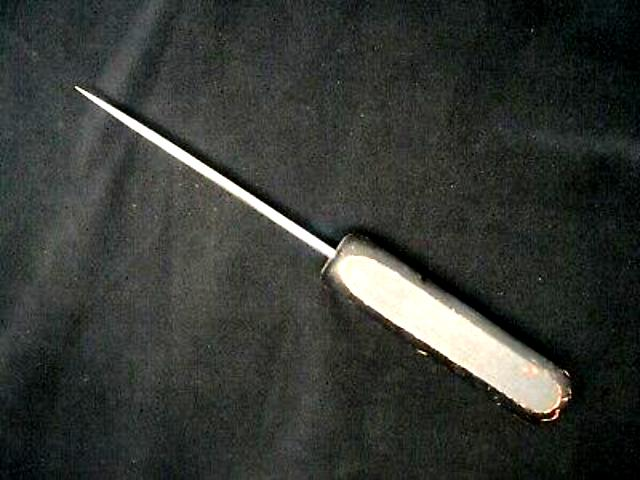ice pick: (73, 83, 573, 423)
